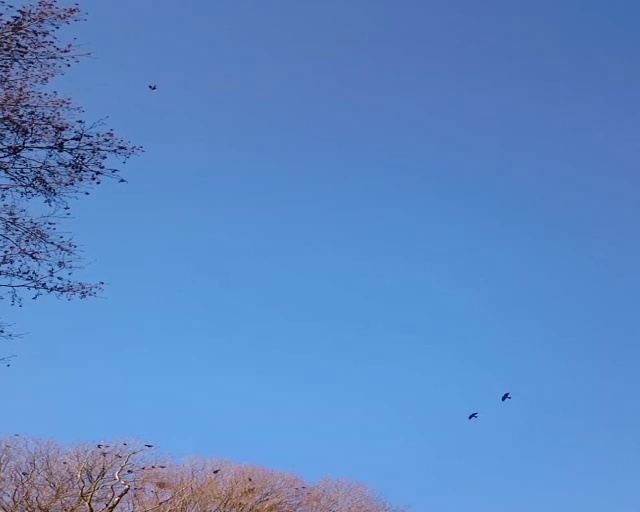BIRD: (502, 392, 511, 401)
